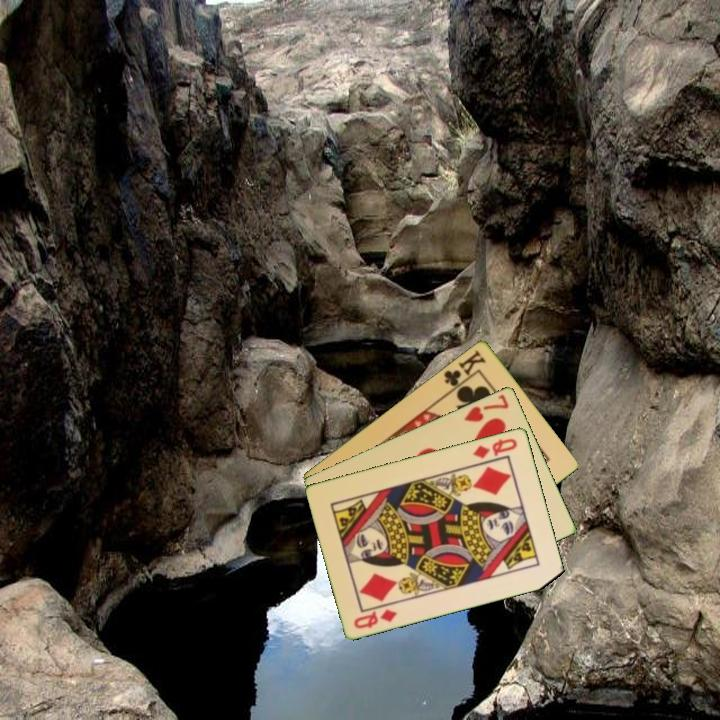7h: (461, 391, 512, 425)
Kc: (440, 346, 489, 394)
Qd: (469, 434, 520, 461), (350, 605, 400, 631)
